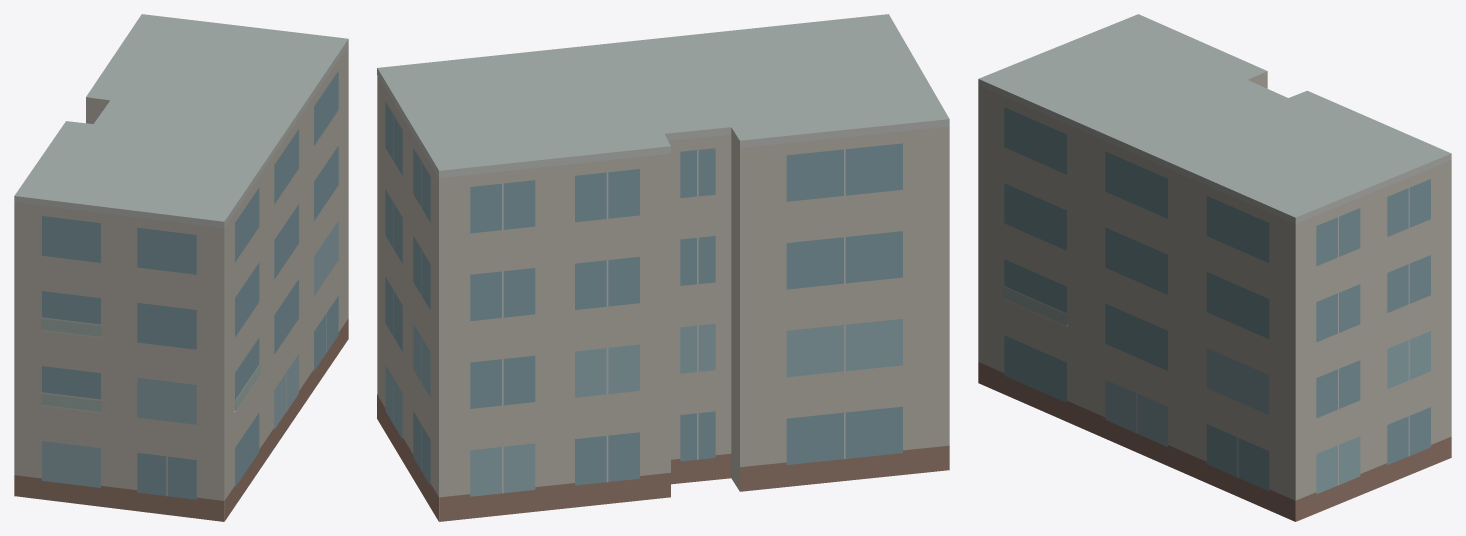
File: survey-upis-32725829.glb
3 renders of one model, left to right at view 1: azimuth 30°, elevation 25°; view 2: azimuth 150°, elevation 25°; view 3: azimuth 270°, elevation 25°, orthographic. The views are drawn at different scales.
Visible parts, largest first — view 1: survey-upis-32725829.tmp; view 2: survey-upis-32725829.tmp; view 3: survey-upis-32725829.tmp.
Part boxes in pixels (x1,y1,x2,y2): survey-upis-32725829.tmp: (14, 14, 348, 521); survey-upis-32725829.tmp: (377, 14, 949, 521); survey-upis-32725829.tmp: (978, 14, 1451, 521).
Size of the model in its own units: 16.74 by 11.65 by 16.44.
